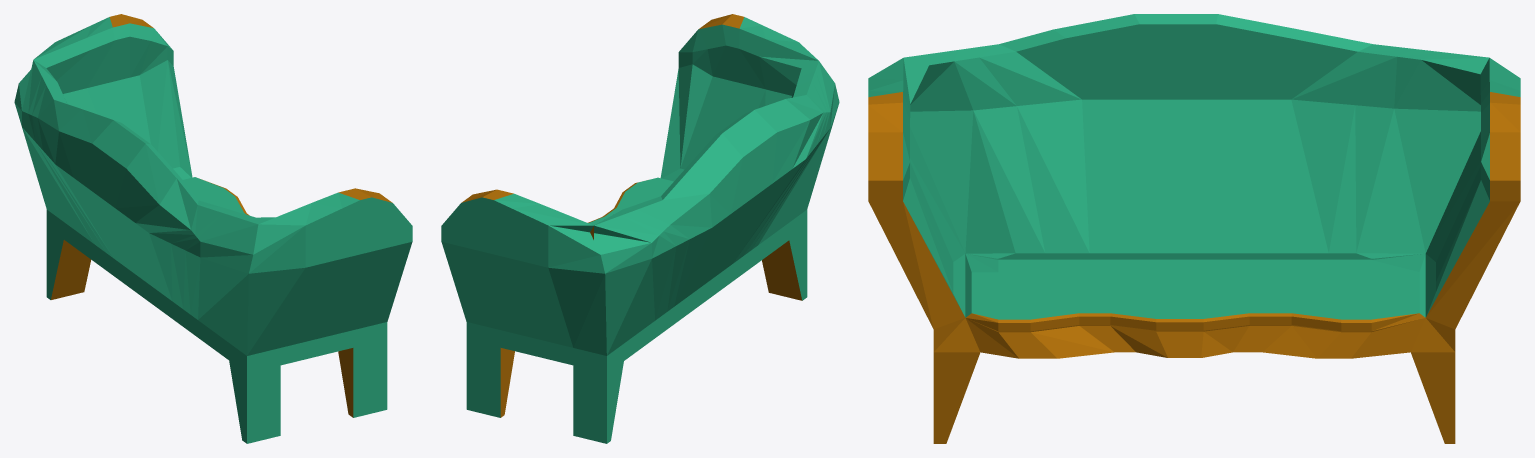
File: couch.fbx
3 renders of one model, left to right at view 1: azimuth 30°, elevation 25°; view 2: azimuth 150°, elevation 25°; view 3: azimuth 270°, elevation 25°, orthographic. The views are drawn at different scales.
Parts seen in each view (by area): view 1: pCube1; view 2: pCube1; view 3: pCube1.
Part boxes in pixels (bbox=[...]): pCube1: bbox=[14, 14, 412, 443]; pCube1: bbox=[441, 14, 839, 443]; pCube1: bbox=[868, 14, 1520, 443].
Size of the model in its own units: 5.58 by 6.7 by 12.17.
